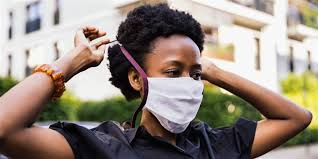with-mask: (115, 11, 216, 141)
